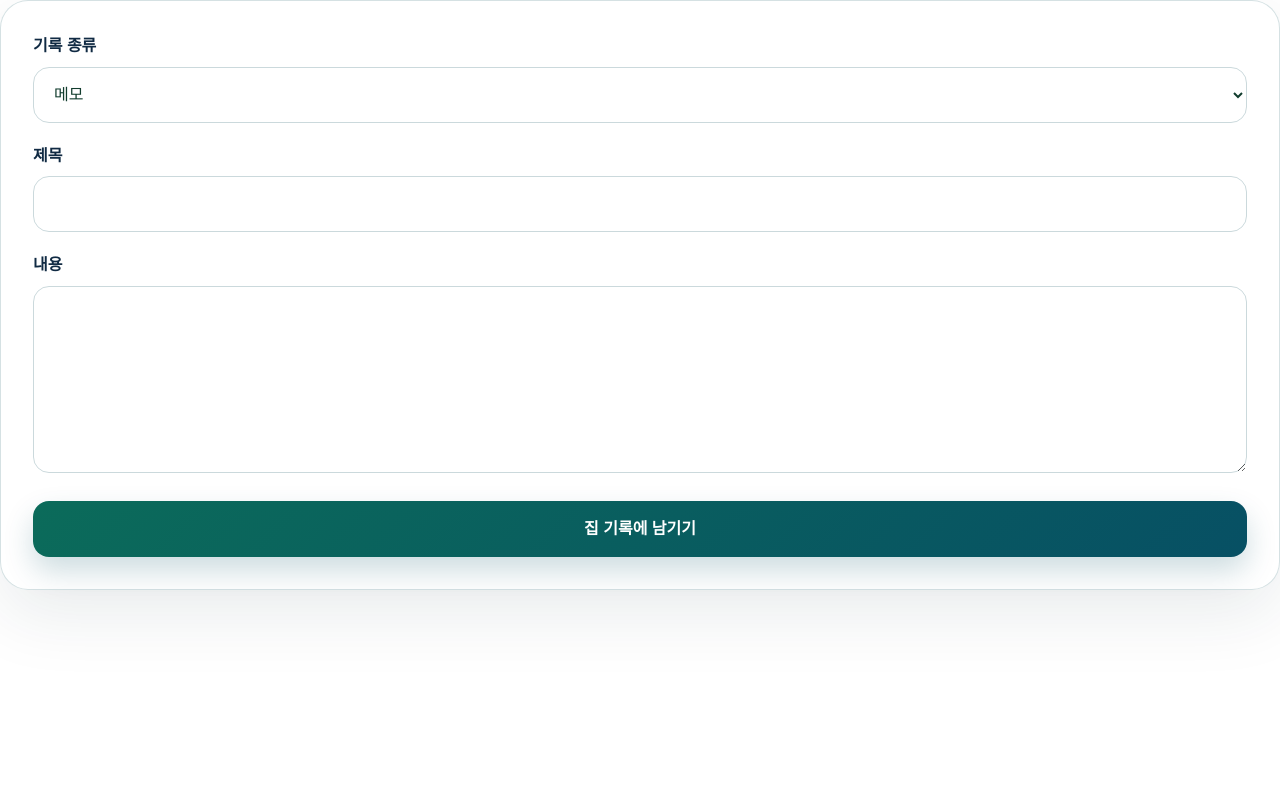
Scenario: RecordForm › TEST-RC-REC-002 keeps the written record and explains a temporary failure
Type "입주 전 벽지 상태" into the field labelled "제목" at (640, 204), box [33,176,1247,232]
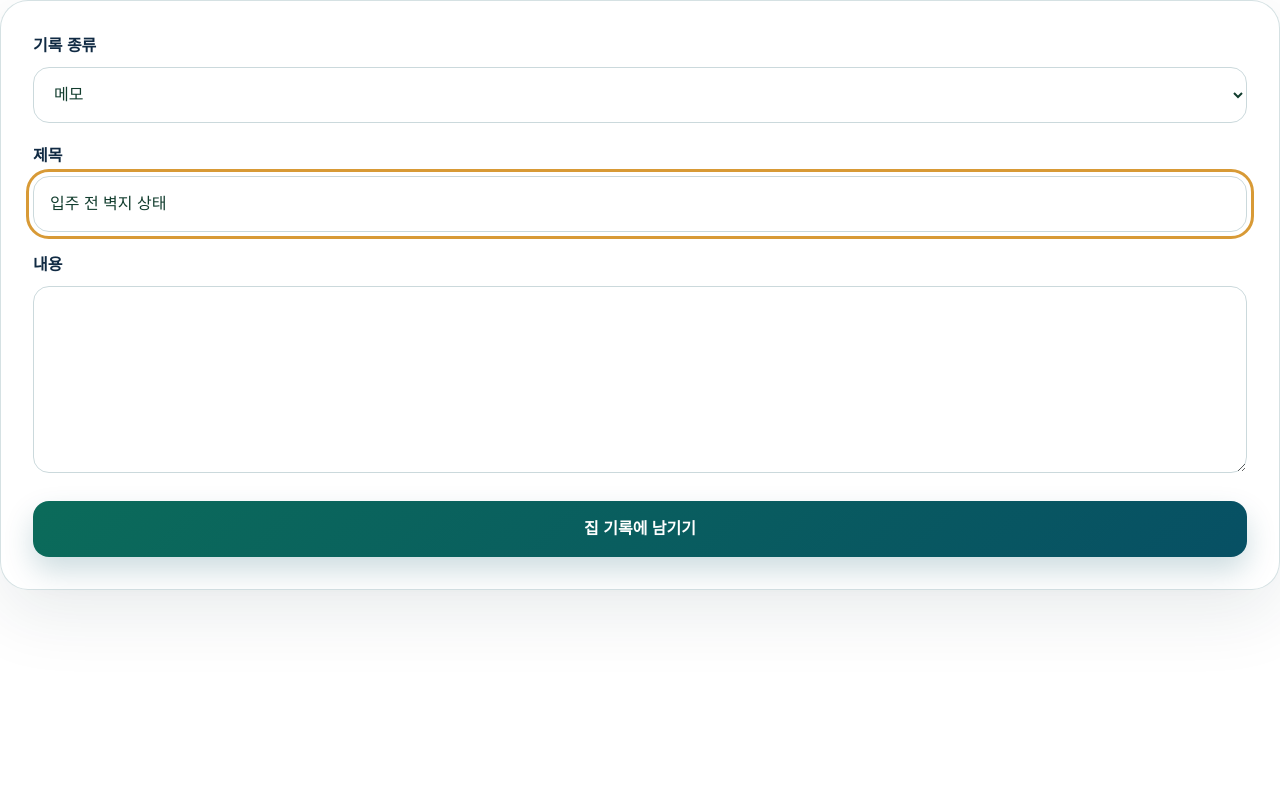
Type "거실 오른쪽에 오염이 있음" into the text box labelled "내용" at (640, 380), box [33,286,1247,473]
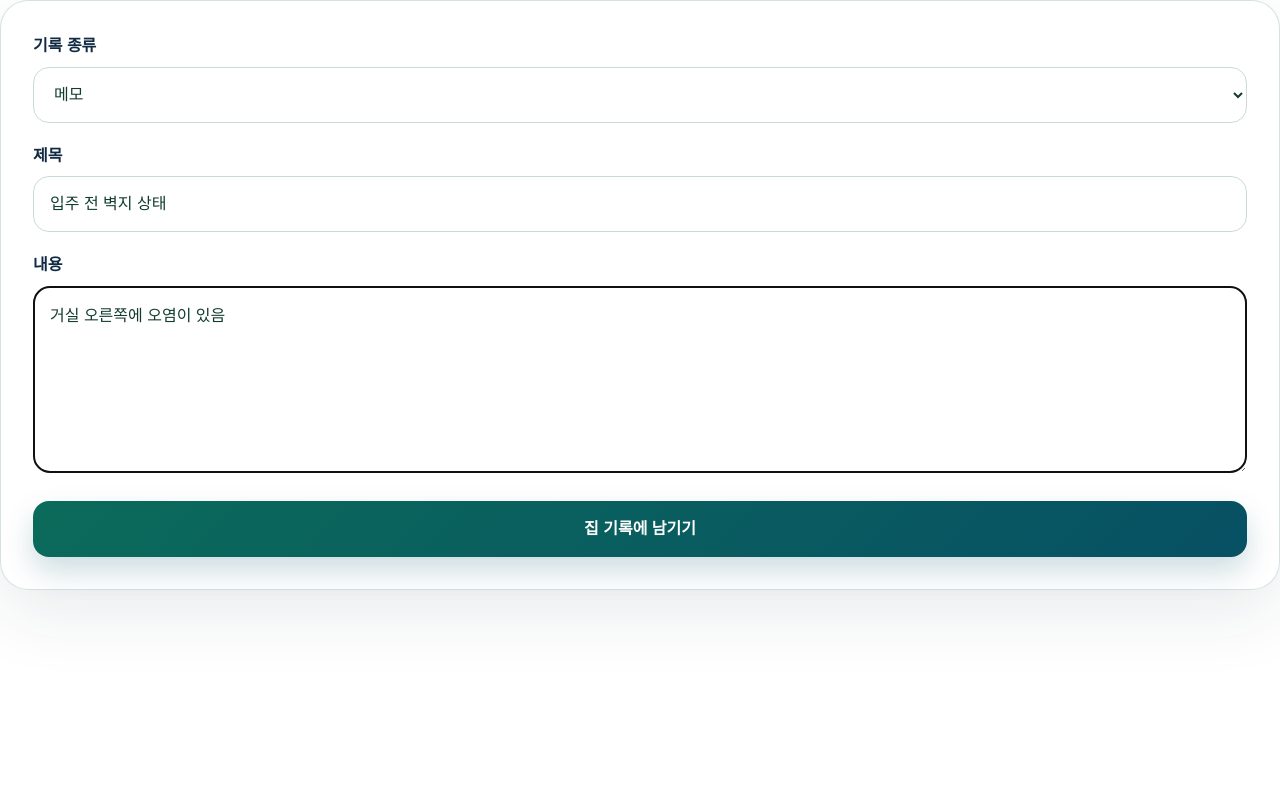
Click the button "집 기록에 남기기" at (640, 529), box [33,501,1247,557]
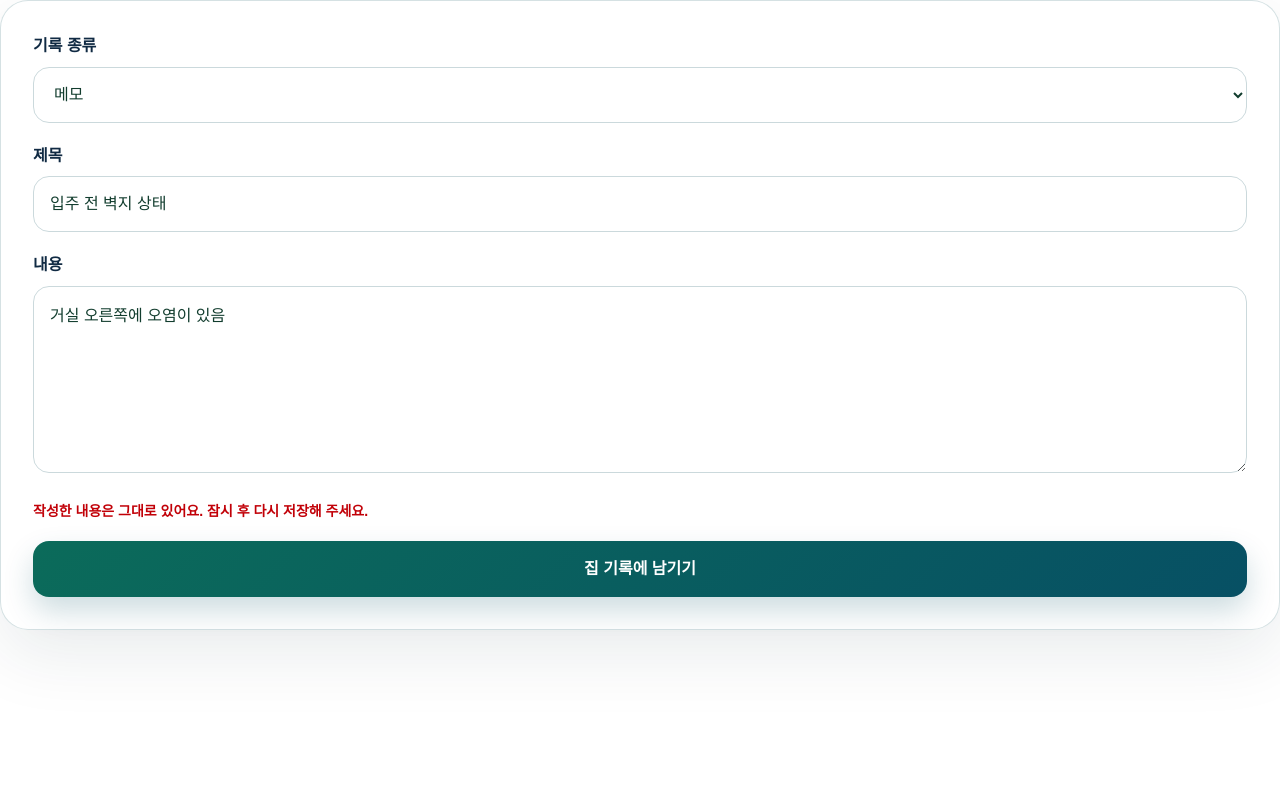
Check: the message reads "작성한 내용은 그대로 있어요. 잠시 후 다시 저장해 주세요.", box [33,503,368,519]
